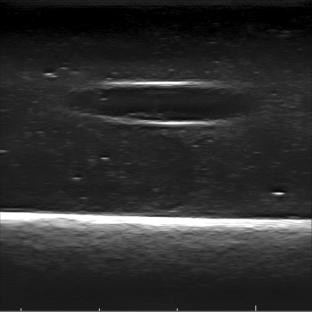vessel: (57, 80, 251, 126)
